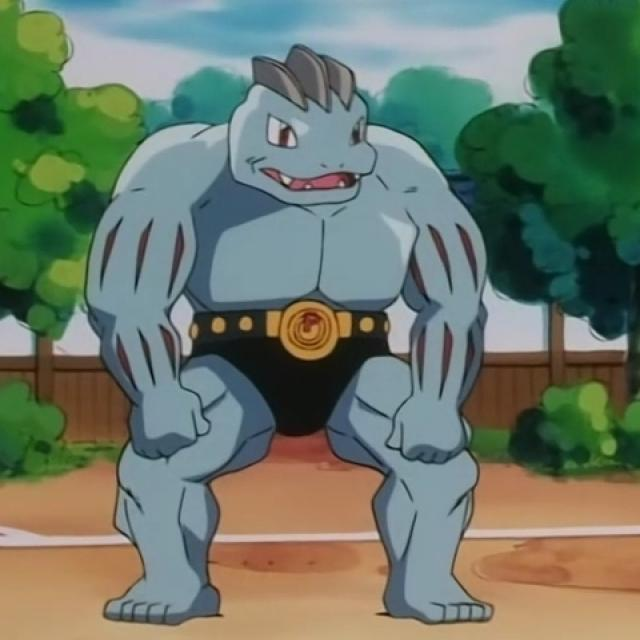Machoke: (100, 55, 492, 627)
